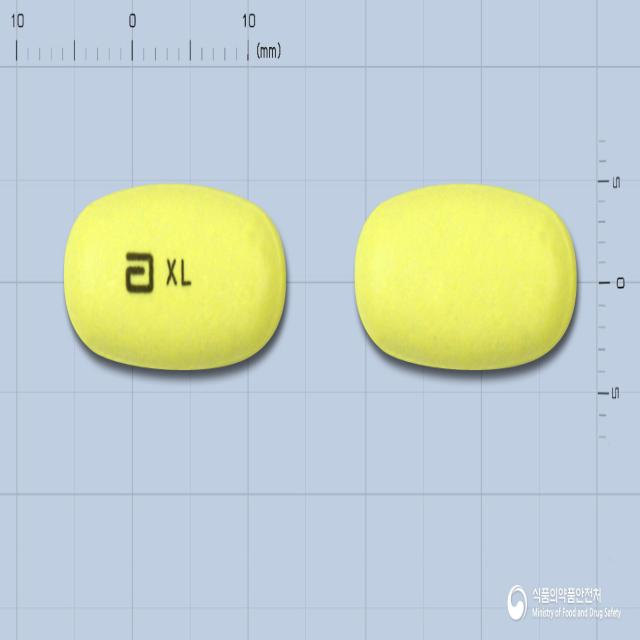Klaricid-Xl: (62, 182, 288, 372)
